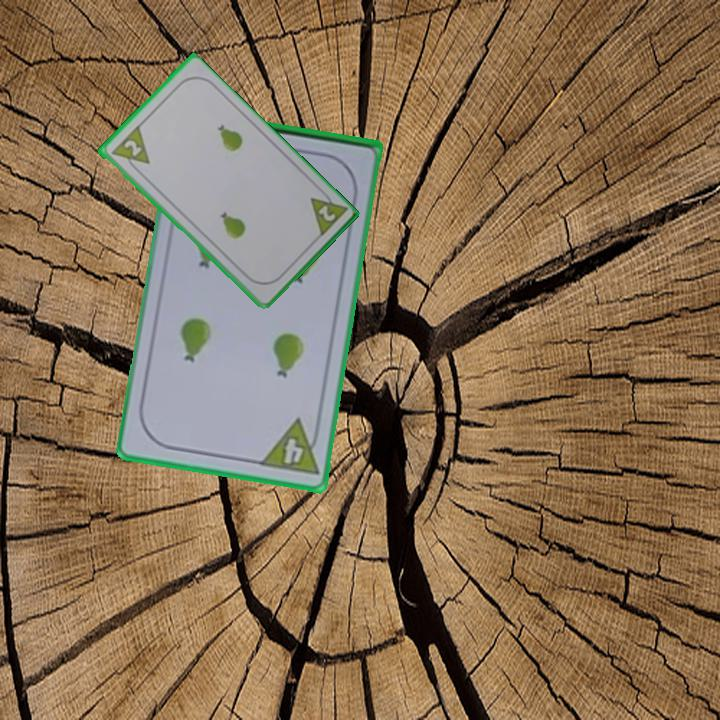2p: (120, 136, 144, 159), (314, 201, 338, 224)
4p: (257, 415, 324, 478)
